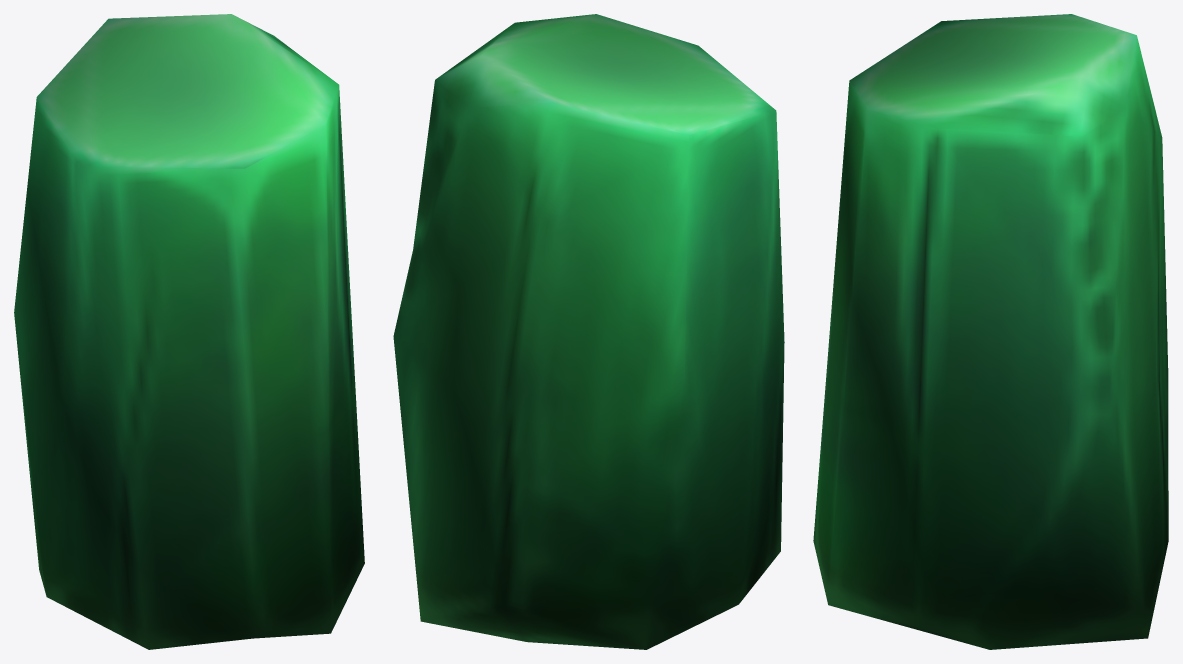
Rendered from SM_Gem_Emerald_Piece_003.fbx.
3 views of the same model, side by side, from view 1: azimuth 30°, elevation 25°; view 2: azimuth 150°, elevation 25°; view 3: azimuth 270°, elevation 25° (orthographic). The views are drawn at different scales.
Visible parts, largest first — view 1: SM_Gem_Emerald_Piece_003; view 2: SM_Gem_Emerald_Piece_003; view 3: SM_Gem_Emerald_Piece_003.
Part boxes in pixels (x1=…): SM_Gem_Emerald_Piece_003: x1=14, y1=14, x2=364, y2=649; SM_Gem_Emerald_Piece_003: x1=393, y1=14, x2=784, y2=649; SM_Gem_Emerald_Piece_003: x1=813, y1=14, x2=1168, y2=649.
Bounding box in the file's own units: 9.73 × 17.28 × 10.05.
